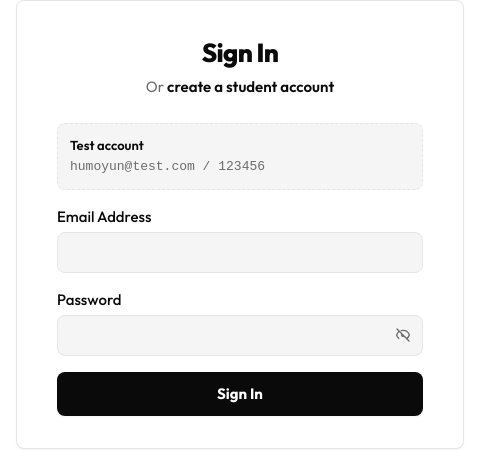
it: AuthPanel › copies the test account to the clipboard when clicked, and says so briefly
Click the button "Test account humoyun@test.com / 123456".
click(240, 156)  # box [57,122,423,190]
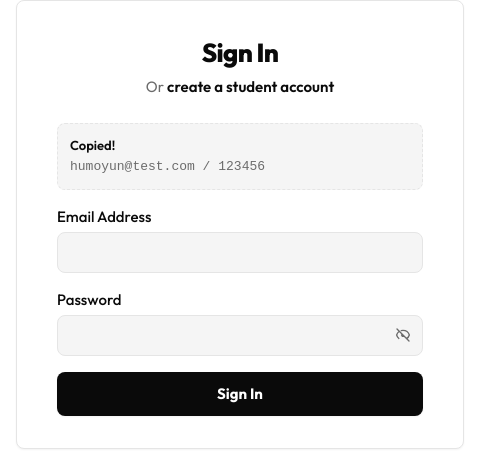
Expected: the text "Copied!" is shown, [70,136,115,152]
